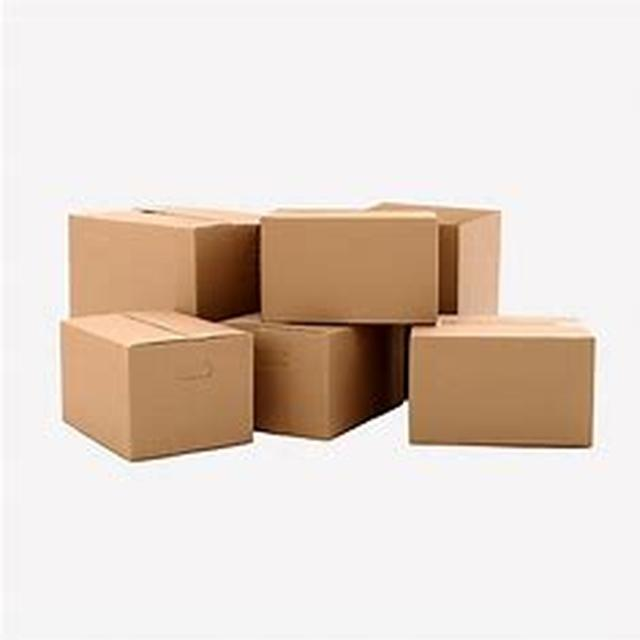box: (317, 114, 528, 319), (40, 308, 278, 486), (58, 172, 250, 350), (412, 322, 602, 455), (261, 212, 435, 328), (250, 309, 376, 462)
